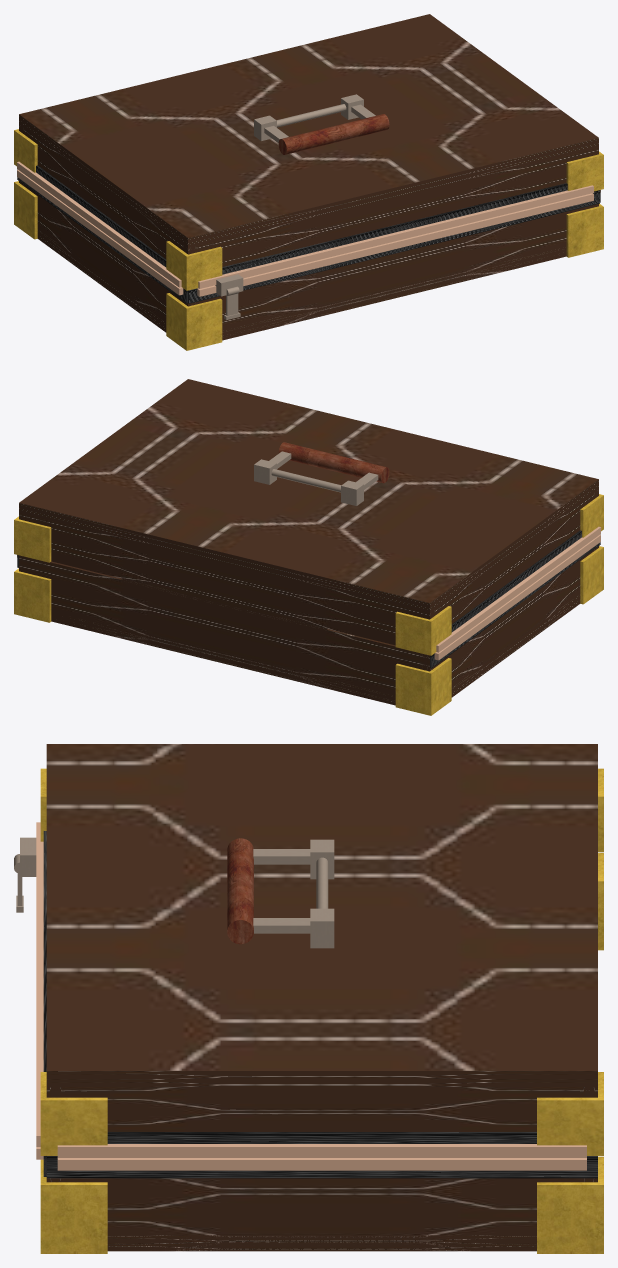
The model's file is Bag_Suitcase_Suitcase__0025.glb.
3 renders of one model, top to bottom at view 1: azimuth 30°, elevation 25°; view 2: azimuth 150°, elevation 25°; view 3: azimuth 270°, elevation 25°, orthographic. The views are drawn at different scales.
Visible parts, largest first — view 1: suitcase_lid::shell_panel, suitcase_body::wall_front, suitcase_lid::wall_front, suitcase_body::wall_left, suitcase_body::shell_panel, suitcase_lid::wall_left, suitcase_lid::zip_teeth_0, suitcase_body::zip_teeth_0, suitcase_lid::zip_tape_0, suitcase_body::body_corner_0, suitcase_body::zip_tape_0, folding_handle::handle_grip (+10 smaller); view 2: suitcase_lid::shell_panel, suitcase_body::wall_back, suitcase_lid::wall_back, suitcase_body::wall_left, suitcase_body::shell_panel, suitcase_lid::wall_left, suitcase_body::body_corner_1, suitcase_lid::lid_corner_1, suitcase_lid::zip_teeth_1, folding_handle::handle_grip, suitcase_body::body_corner_3, suitcase_body::zip_teeth_1 (+9 smaller); view 3: suitcase_lid::shell_panel, suitcase_body::wall_right, suitcase_lid::wall_right, suitcase_lid::zip_teeth_2, suitcase_body::shell_panel, suitcase_body::zip_teeth_2, suitcase_body::zip_tape_2, suitcase_lid::zip_tape_2, suitcase_body::body_corner_2, suitcase_body::body_corner_3, suitcase_lid::lid_corner_2, suitcase_lid::lid_corner_3 (+8 smaller).
Boxes of the visible parts, x1,y1,x2,y2 form: suitcase_lid::shell_panel: [19, 14, 598, 247]; suitcase_body::wall_front: [182, 204, 598, 340]; suitcase_lid::wall_front: [182, 148, 598, 266]; suitcase_body::wall_left: [24, 185, 197, 322]; suitcase_body::shell_panel: [37, 229, 566, 340]; suitcase_lid::wall_left: [24, 128, 197, 258]; suitcase_lid::zip_teeth_0: [198, 185, 593, 288]; suitcase_body::zip_teeth_0: [197, 193, 593, 296]; suitcase_lid::zip_tape_0: [222, 183, 567, 274]; suitcase_body::body_corner_0: [166, 293, 222, 350]; suitcase_body::zip_tape_0: [188, 190, 599, 303]; folding_handle::handle_grip: [278, 114, 389, 154]; suitcase_lid::shell_panel: [19, 379, 598, 612]; suitcase_body::wall_back: [19, 555, 435, 704]; suitcase_lid::wall_back: [19, 513, 435, 645]; suitcase_body::wall_left: [420, 550, 593, 687]; suitcase_body::shell_panel: [54, 594, 580, 705]; suitcase_lid::wall_left: [426, 493, 593, 623]; suitcase_body::body_corner_1: [395, 658, 451, 715]; suitcase_lid::lid_corner_1: [395, 606, 451, 655]; suitcase_lid::zip_teeth_1: [436, 526, 600, 652]; folding_handle::handle_grip: [278, 442, 389, 483]; suitcase_body::body_corner_3: [14, 568, 51, 622]; suitcase_body::zip_teeth_1: [434, 535, 600, 660]; suitcase_lid::shell_panel: [46, 744, 597, 1086]; suitcase_body::wall_right: [48, 1178, 597, 1251]; suitcase_lid::wall_right: [48, 1087, 597, 1131]; suitcase_lid::zip_teeth_2: [57, 1144, 586, 1157]; suitcase_body::shell_panel: [107, 1235, 536, 1251]; suitcase_body::zip_teeth_2: [57, 1158, 586, 1170]; suitcase_body::zip_tape_2: [46, 1156, 597, 1178]; suitcase_lid::zip_tape_2: [107, 1132, 536, 1143]; suitcase_body::body_corner_2: [40, 1159, 107, 1253]; suitcase_body::body_corner_3: [537, 1156, 603, 1253]; suitcase_lid::lid_corner_2: [40, 1072, 107, 1155]; suitcase_lid::lid_corner_3: [537, 1072, 603, 1155].
Bounding box in the file's own units: 0.5341 × 0.155 × 0.3969.
8 materials, 7 textured.
